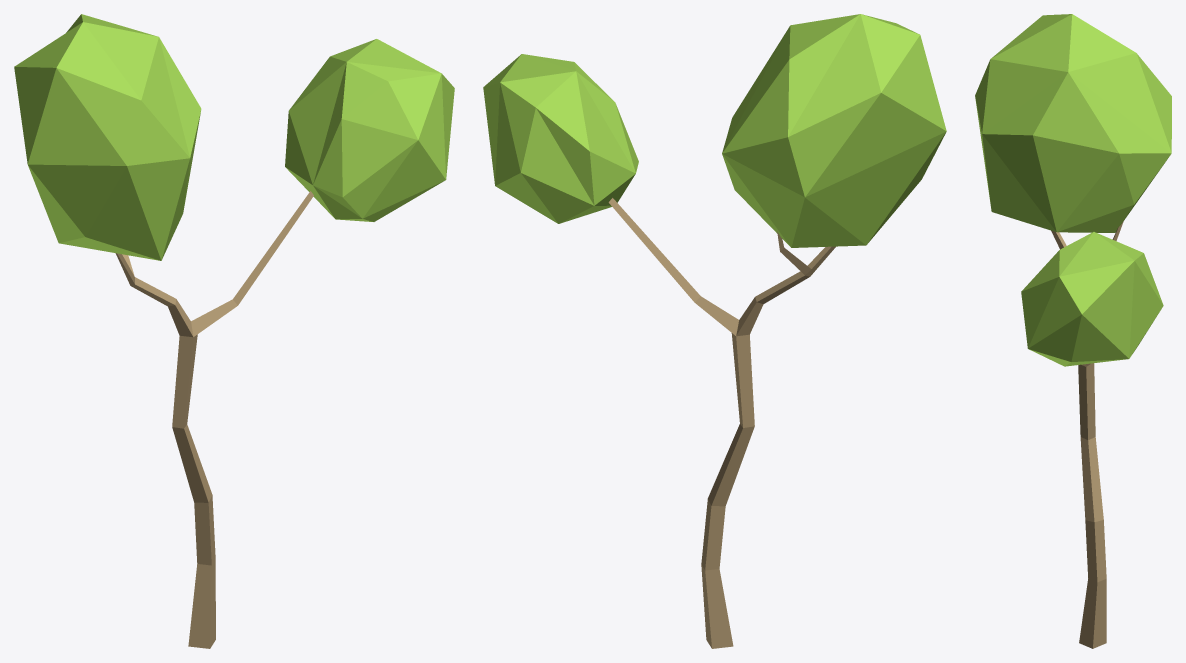
File: Random_Tree_s_03.fbx
3 renders of one model, left to right at view 1: azimuth 30°, elevation 25°; view 2: azimuth 150°, elevation 25°; view 3: azimuth 270°, elevation 25°, orthographic. The views are drawn at different scales.
Visible parts, largest first — view 1: Random_Tree_s_03; view 2: Random_Tree_s_03; view 3: Random_Tree_s_03.
Boxes of the visible parts, <box> form: Random_Tree_s_03: <box>14,14,454,648</box>; Random_Tree_s_03: <box>483,14,946,648</box>; Random_Tree_s_03: <box>975,14,1171,648</box>.
Size of the model in its own units: 215 by 303 by 94.29.
